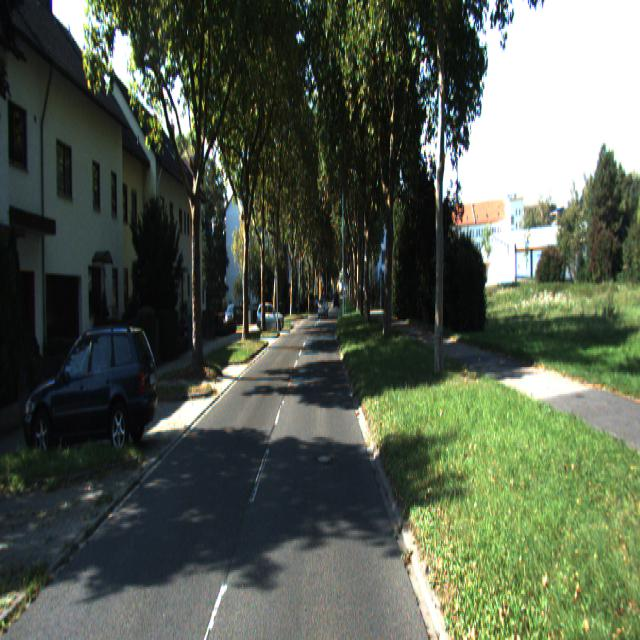Car: (23, 320, 163, 462), (256, 303, 285, 332)
